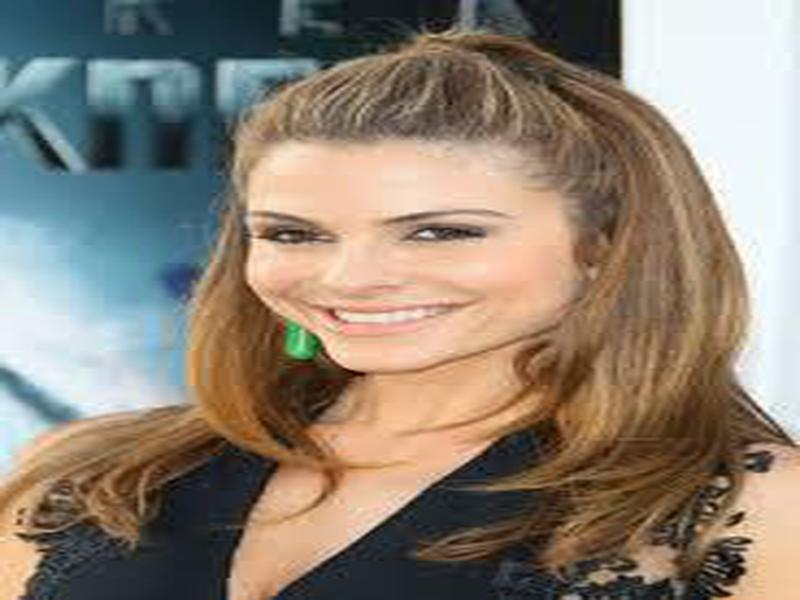without_mask: (236, 134, 593, 372)
